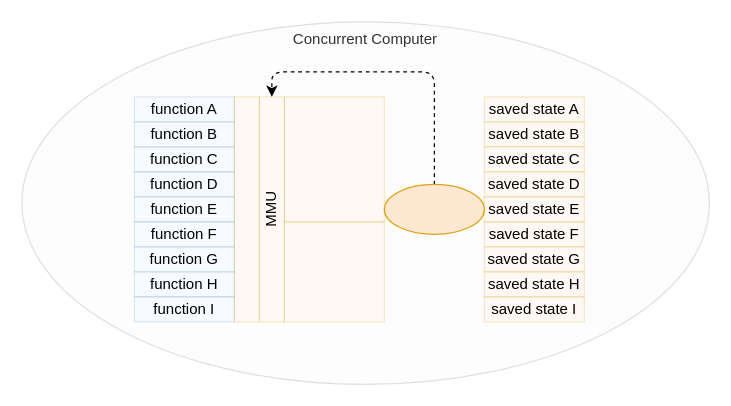
Some shapes in this 731 by 406 pixel diagram are drawn without their labels. Here are the shapes that lost their labels. From the top down, the centre of each, then its label:
pixel 333 159: shared memory stack variables environment
pixel 246 209: caches
pixel 433 208: dispatcher
pixel 333 271: impure message passing via shared memory slots
